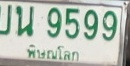txt20: (15, 5, 34, 37)
